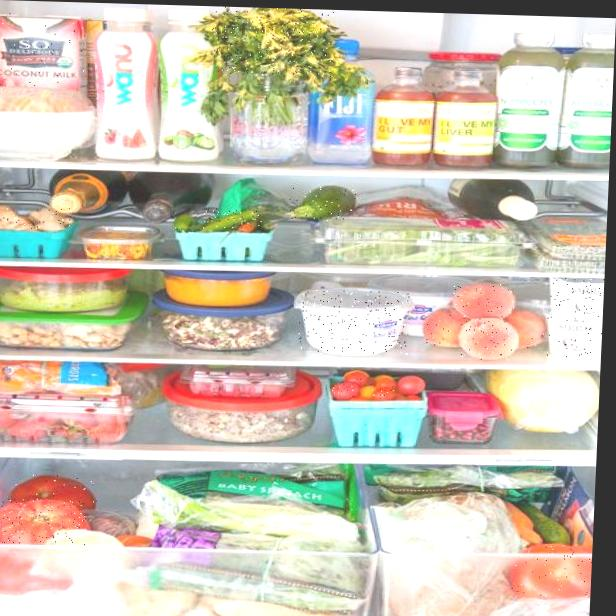courgettes: (288, 186, 356, 222)
ginger: (31, 207, 73, 231), (0, 207, 34, 227)
green chilies: (203, 208, 262, 230), (175, 212, 197, 231)
milk: (0, 13, 88, 93)
parsley: (210, 6, 334, 77)
peach: (460, 317, 520, 361), (453, 283, 515, 320), (424, 310, 464, 348), (510, 311, 547, 349)
tomato: (510, 542, 593, 598), (0, 499, 88, 546), (15, 474, 99, 507), (397, 376, 424, 395), (331, 381, 360, 398), (346, 370, 367, 386), (372, 385, 396, 399)
yoghurt: (298, 290, 411, 355), (546, 318, 603, 358), (550, 278, 604, 320)
